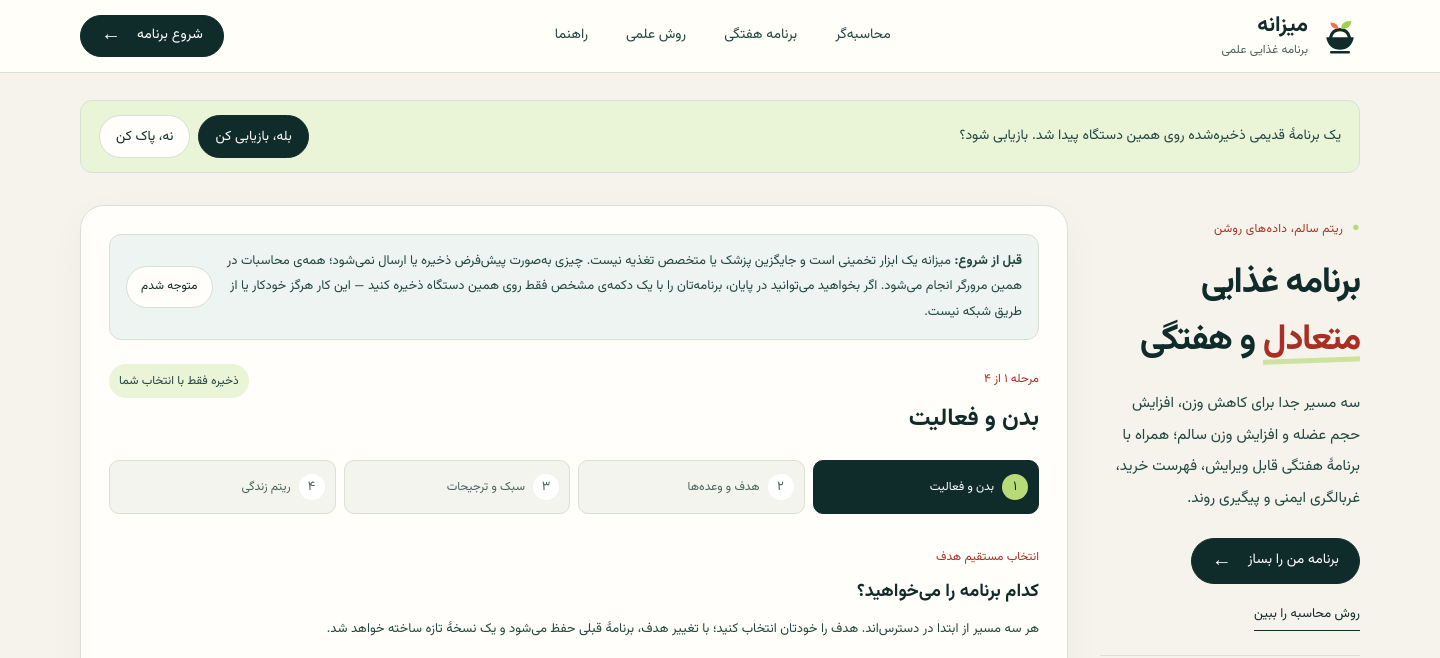
Test case: save / restore session (round 2, spec user stories 25-28) › restores the saved plan when the user explicitly confirms
This screenshot has width=1440, height=658.
What coordinates should you click on to do the following:
click the button "بله، بازیابی کن"
I would click on:
 (254, 137)
Its box is [198,115,309,158].
(page scrolled)
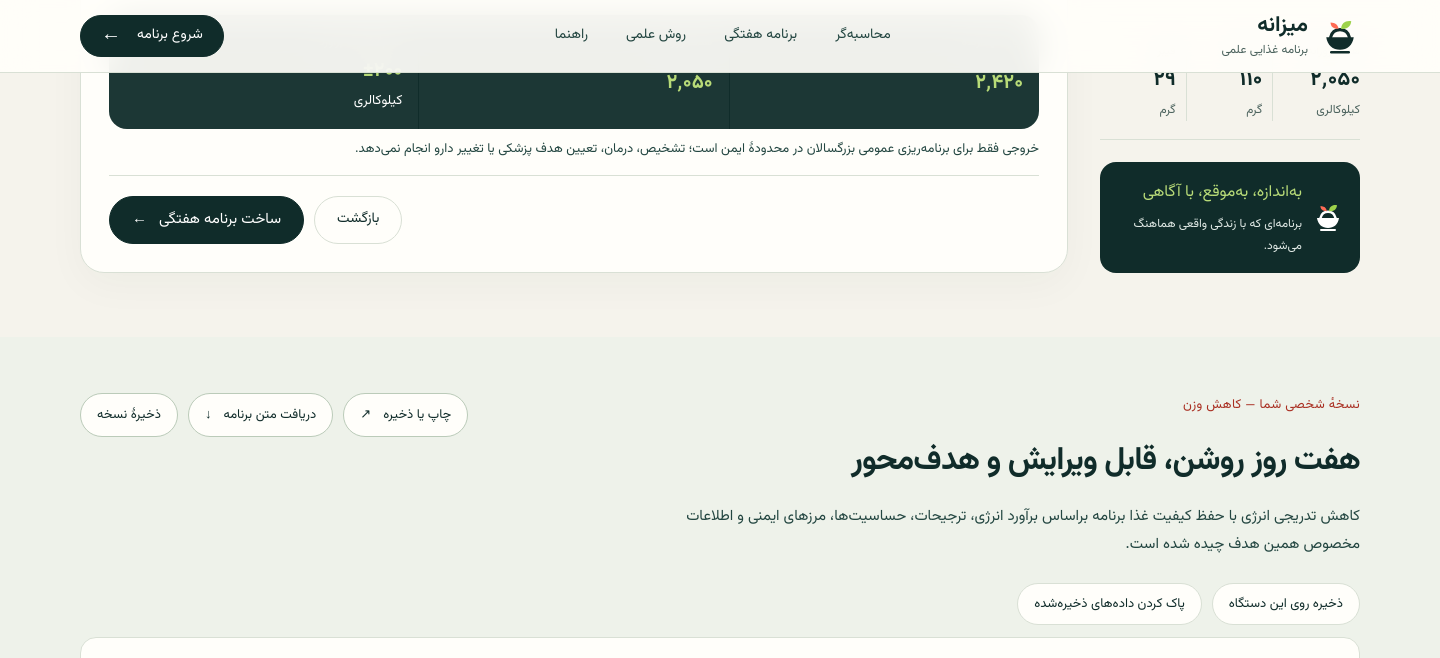
Now the heading "هفت روز روشن، قابل ویرایش و هدف‌محور" is shown, box [851,436,1360,486]
